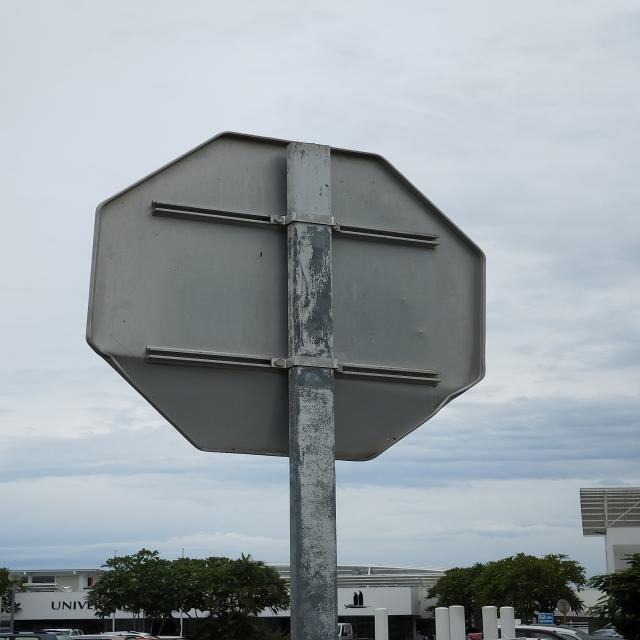Panneau: (88, 127, 490, 463)
